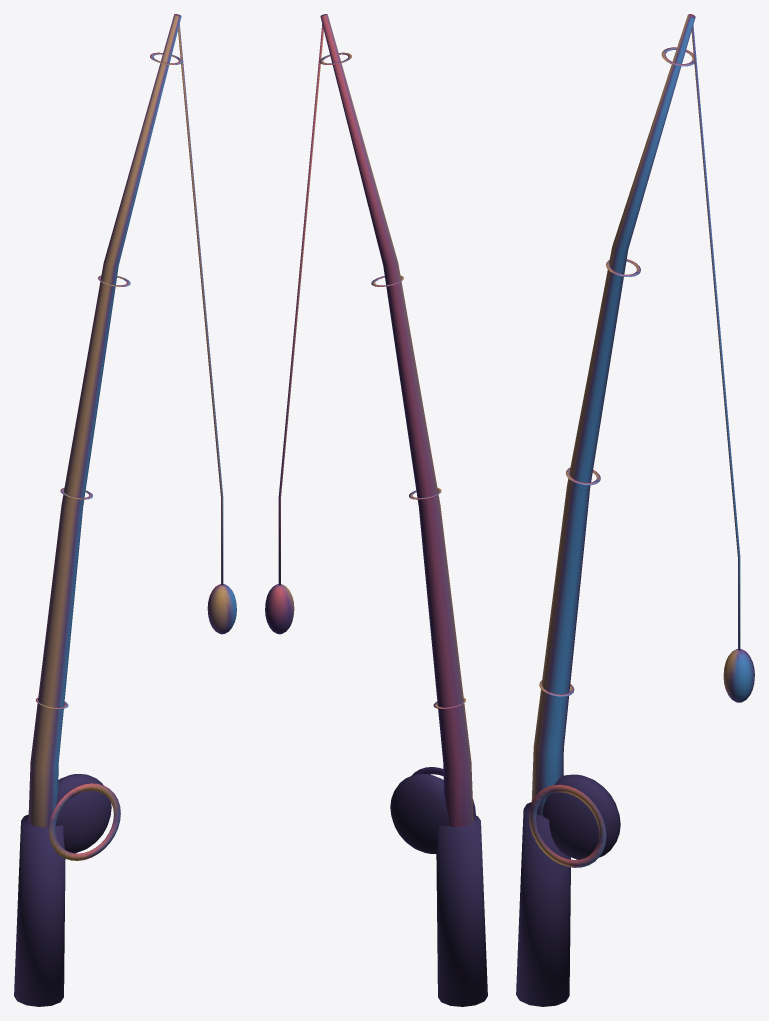
Rendered from Fusion_Fishing_Rod.glb.
3 views of the same model, side by side, from view 1: azimuth 30°, elevation 25°; view 2: azimuth 150°, elevation 25°; view 3: azimuth 330°, elevation 25° (orthographic). The views are drawn at different scales.
Visible parts, largest first — view 1: Fusion_Fishing_Rod; view 2: Fusion_Fishing_Rod; view 3: Fusion_Fishing_Rod.
Boxes of the visible parts, bbox=[...] form: Fusion_Fishing_Rod: bbox=[14, 14, 236, 1006]; Fusion_Fishing_Rod: bbox=[265, 14, 487, 1006]; Fusion_Fishing_Rod: bbox=[516, 14, 754, 1006].
Bounding box in the file's own units: 0.392 × 1.63 × 0.078.
